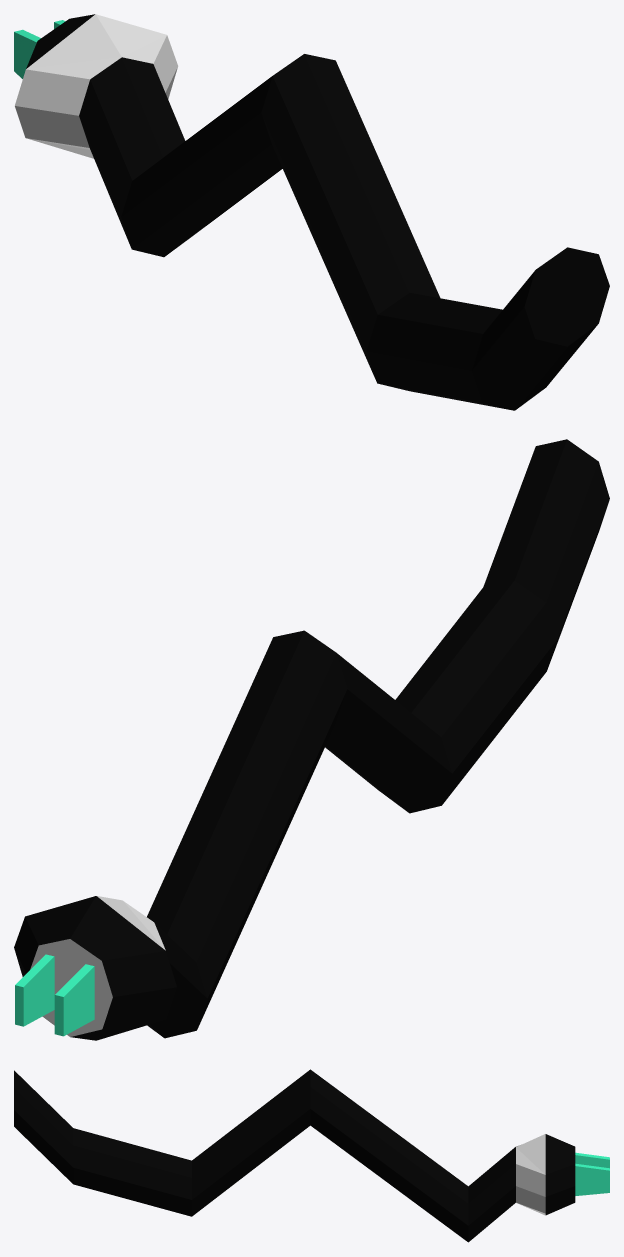
Rendered from player_tail.obj.
3 renders of one model, top to bottom at view 1: azimuth 30°, elevation 25°; view 2: azimuth 150°, elevation 25°; view 3: azimuth 270°, elevation 25°, orthographic. The views are drawn at different scales.
Visible parts, largest first — view 1: Tail; view 2: Tail; view 3: Tail.
Boxes of the visible parts, left/top/right/bottom form: Tail: left=14, top=14, right=609, bottom=410; Tail: left=14, top=439, right=609, bottom=1040; Tail: left=14, top=1069, right=609, bottom=1242.
Bounding box in the file's own units: 0.4484 × 0.8025 × 2.51.
1 material, 1 textured.
